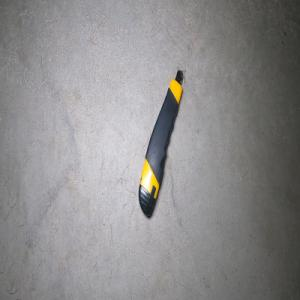Cutter: (136, 69, 183, 217)
